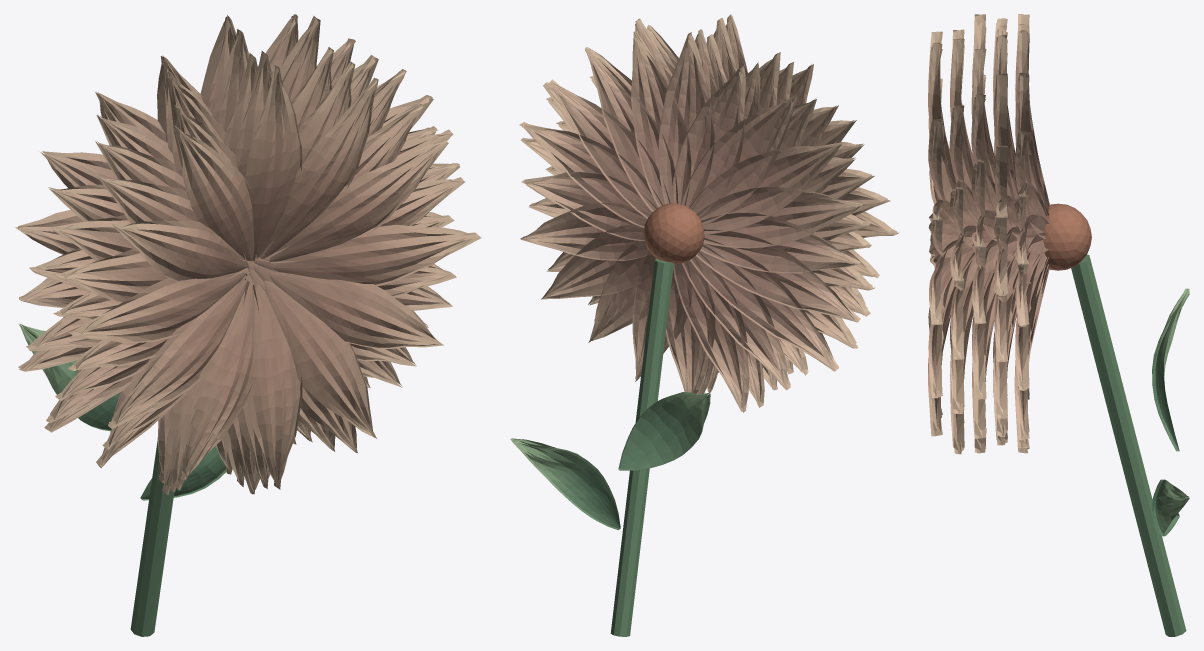
The model's file is dalia.glb.
3 views of the same model, side by side, from view 1: azimuth 30°, elevation 25°; view 2: azimuth 150°, elevation 25°; view 3: azimuth 270°, elevation 25° (orthographic). The views are drawn at different scales.
Visible parts, largest first — view 1: PETALO_068, PETALO_079, PETALO_078, PETALO_069, PETALO_077, PETALO_070, PETALO_076, PETALO_071, PETALO_075, PETALO_074, PETALO_072, PETALO_073 (+47 smaller); view 2: STELO_PRINCIPALE, PETALO_008, PETALO_005, FOGLIA_L_1, PETALO_007, PETALO_009, PETALO_012, PETALO_004, PETALO_011, FOGLIA_R_2, PETALO_014, PETALO_006 (+31 smaller); view 3: STELO_PRINCIPALE, DISCO_CENTRALE, FOGLIA_L_1, FOGLIA_R_2, PETALO_070, PETALO_053, PETALO_019, PETALO_068, PETALO_001, PETALO_071, PETALO_023, PETALO_004 (+30 smaller).
Boxes of the visible parts, x1,y1,x2,y2 form: PETALO_068: [271, 224, 481, 286]; PETALO_079: [269, 272, 444, 348]; PETALO_078: [264, 280, 376, 438]; PETALO_069: [269, 138, 448, 263]; PETALO_077: [245, 284, 302, 489]; PETALO_070: [264, 77, 378, 259]; PETALO_076: [180, 284, 258, 480]; PETALO_071: [245, 65, 302, 258]; PETALO_075: [108, 280, 249, 428]; PETALO_074: [69, 271, 247, 343]; PETALO_072: [174, 125, 258, 262]; PETALO_073: [111, 220, 249, 284]; STELO_PRINCIPALE: [610, 258, 673, 636]; PETALO_008: [689, 142, 842, 234]; PETALO_005: [658, 32, 714, 210]; FOGLIA_L_1: [618, 392, 710, 470]; PETALO_007: [680, 94, 797, 225]; PETALO_009: [696, 187, 862, 248]; PETALO_012: [690, 238, 838, 371]; PETALO_004: [630, 30, 691, 207]; PETALO_011: [696, 229, 860, 322]; FOGLIA_R_2: [510, 438, 620, 530]; PETALO_014: [673, 251, 749, 412]; PETALO_006: [672, 64, 745, 217]; STELO_PRINCIPALE: [1071, 254, 1186, 636]; DISCO_CENTRALE: [1043, 203, 1091, 270]; FOGLIA_L_1: [1152, 288, 1189, 451]; FOGLIA_R_2: [1152, 479, 1189, 536]; PETALO_070: [928, 119, 955, 223]; PETALO_053: [972, 271, 996, 399]; PETALO_019: [1015, 245, 1049, 390]; PETALO_068: [929, 240, 957, 325]; PETALO_001: [1015, 214, 1049, 283]; PETALO_071: [928, 42, 954, 189]; PETALO_023: [993, 73, 1015, 202]; PETALO_004: [1015, 73, 1049, 227].
Size of the model in its own units: 1.84 by 2.77 by 1.09.
